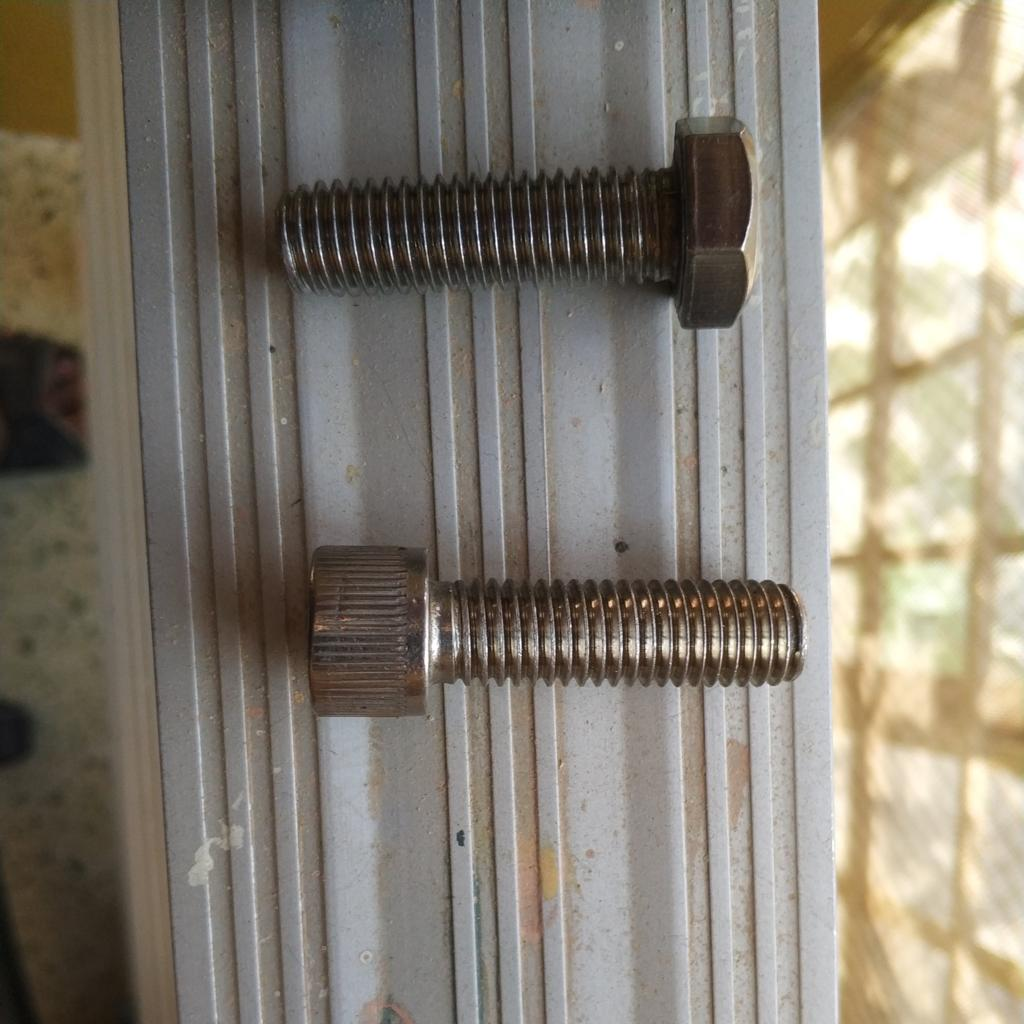screwtype1silver: (295, 534, 813, 734)
screwtype2silver: (271, 110, 765, 335)
